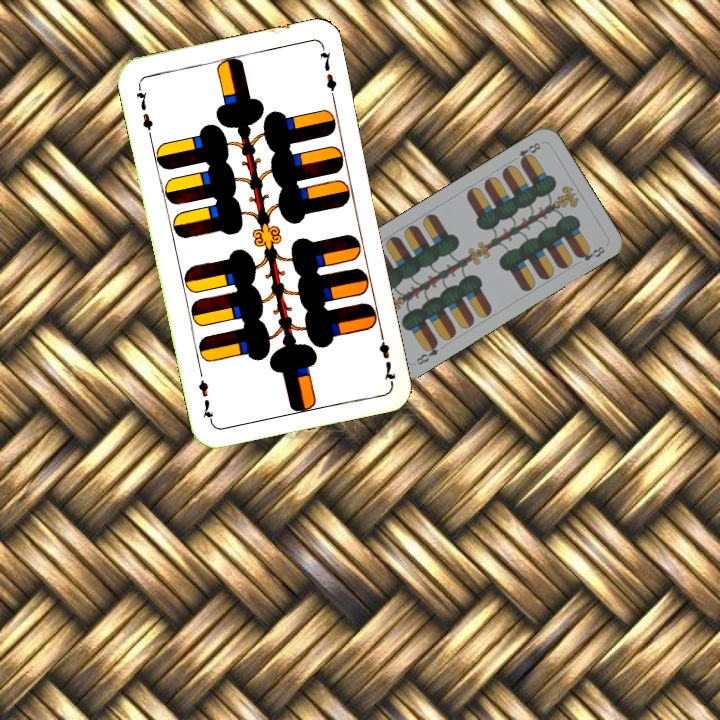E7: (374, 326, 399, 385), (132, 81, 156, 140)
E8: (508, 138, 543, 166), (412, 337, 441, 368)
